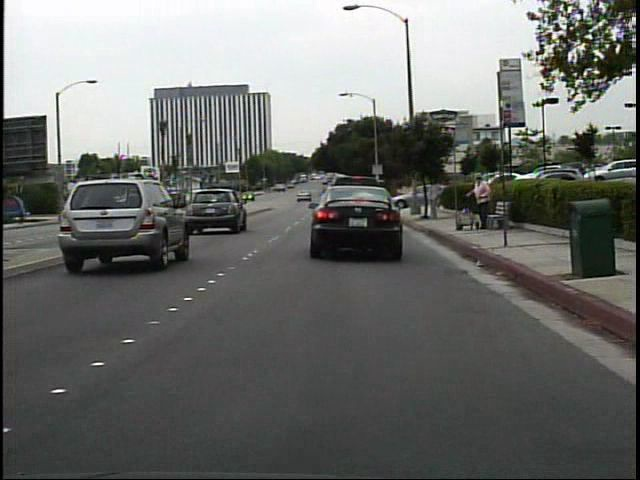person: (467, 171, 496, 231), (424, 171, 449, 220)
